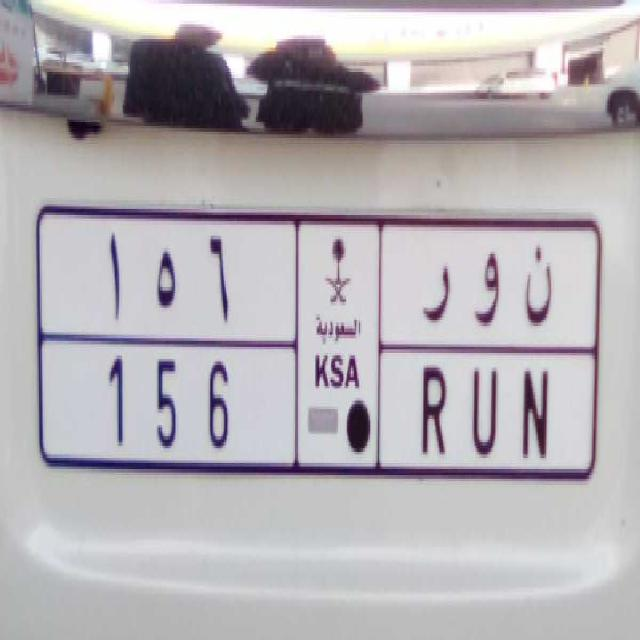license_plate: (48, 336, 588, 476)
